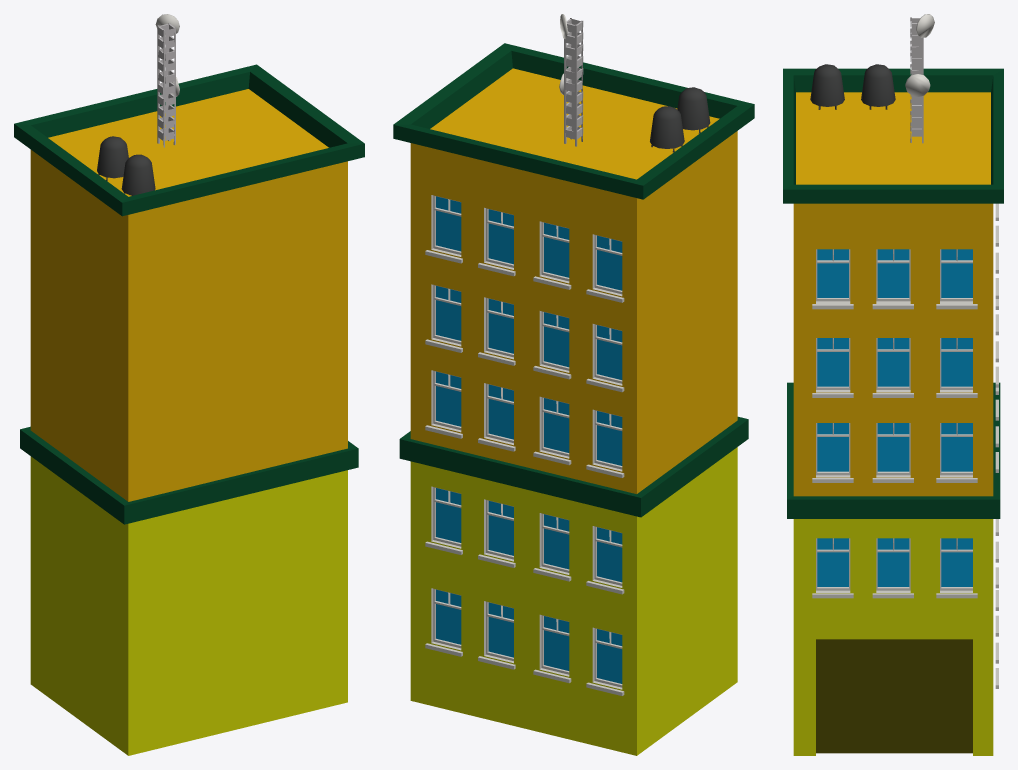
File: Flat3.fbx
The picture shows the model from 3 angles, left to right: view 1: azimuth 30°, elevation 25°; view 2: azimuth 150°, elevation 25°; view 3: azimuth 270°, elevation 25°; orthographic projection. The views are drawn at different scales.
Parts seen in each view (by area): view 1: flat3; view 2: flat3; view 3: flat3.
Boxes of the visible parts, x1=… form: flat3: x1=14, y1=14, x2=364, y2=755; flat3: x1=393, y1=14, x2=754, y2=755; flat3: x1=783, y1=14, x2=1003, y2=755.
Bounding box in the file's own units: 6.38 × 16.8 × 4.92.
